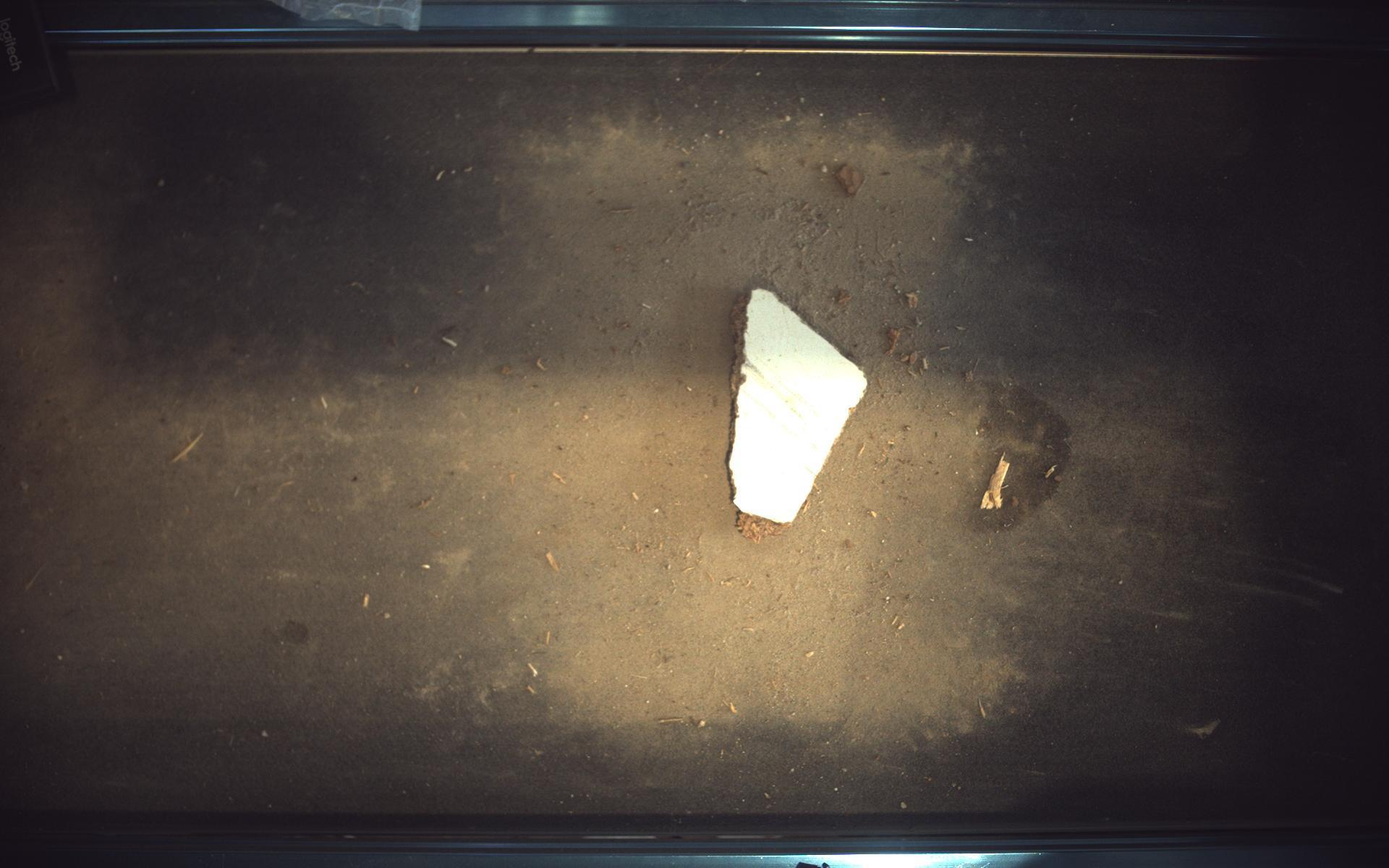wood: (729, 289, 868, 542)
